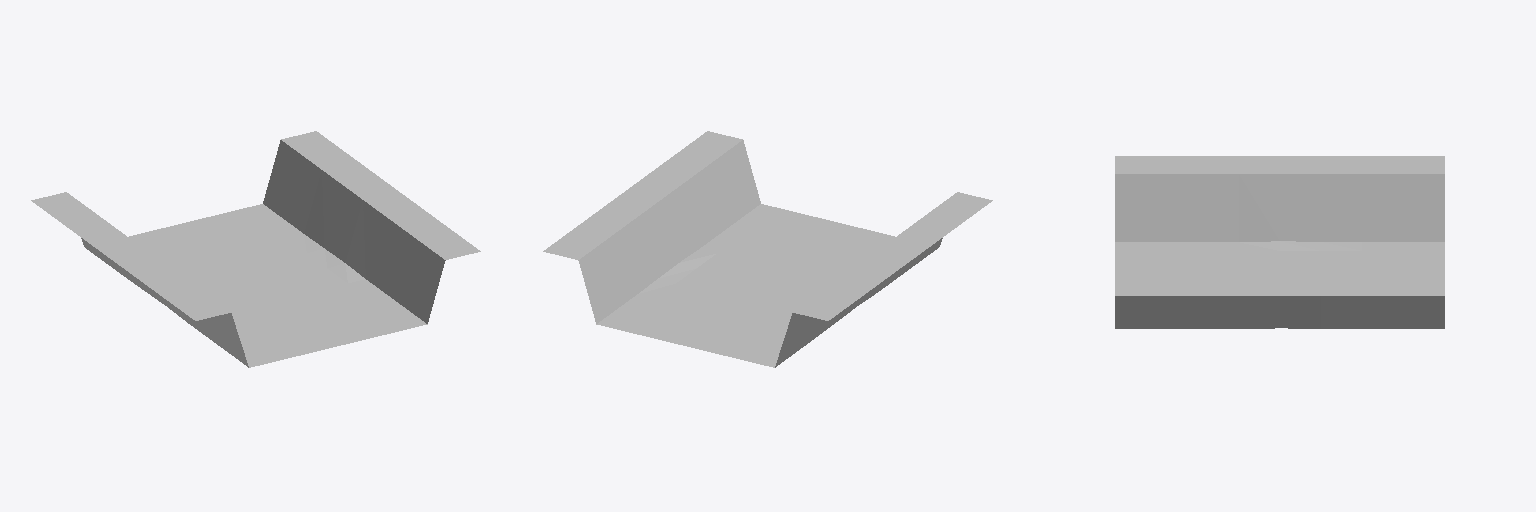
The model's file is predioI.obj.
3 renders of one model, left to right at view 1: azimuth 30°, elevation 25°; view 2: azimuth 150°, elevation 25°; view 3: azimuth 270°, elevation 25°, orthographic.
Parts seen in each view (by area): view 1: Plane; view 2: Plane; view 3: Plane.
Part boxes in pixels (left/top/right/bottom): Plane: left=31, top=131, right=480, bottom=367; Plane: left=543, top=131, right=992, bottom=367; Plane: left=1115, top=156, right=1444, bottom=328.
Size of the model in its own units: 2 by 0.4 by 2.